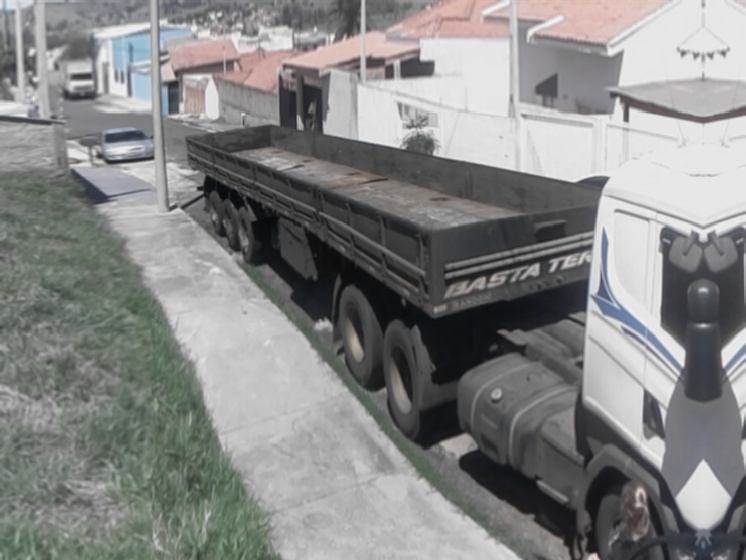person: (581, 478, 655, 560)
